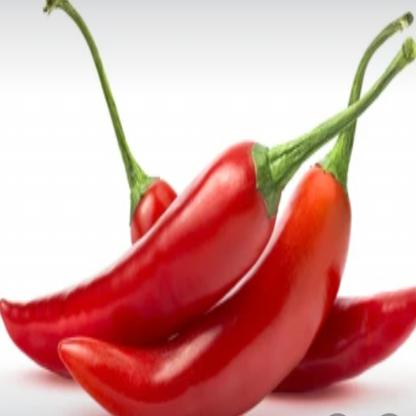chili: (5, 11, 410, 399)
